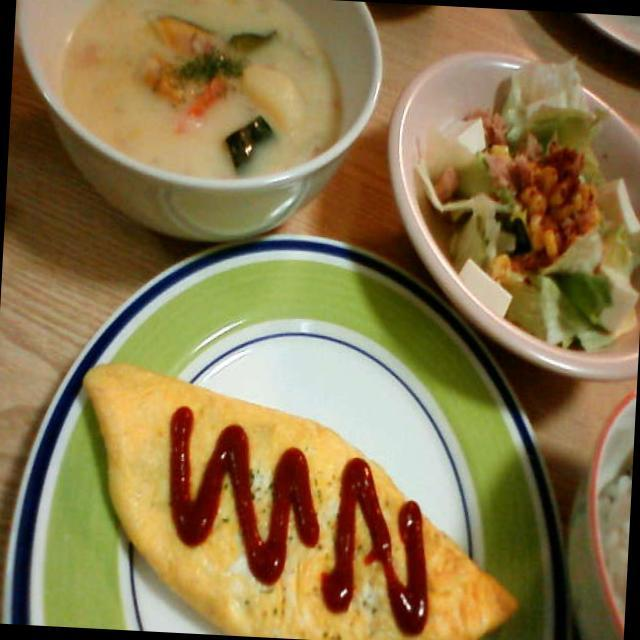Green Salad: (429, 61, 640, 327)
Omelet: (64, 359, 540, 640)
